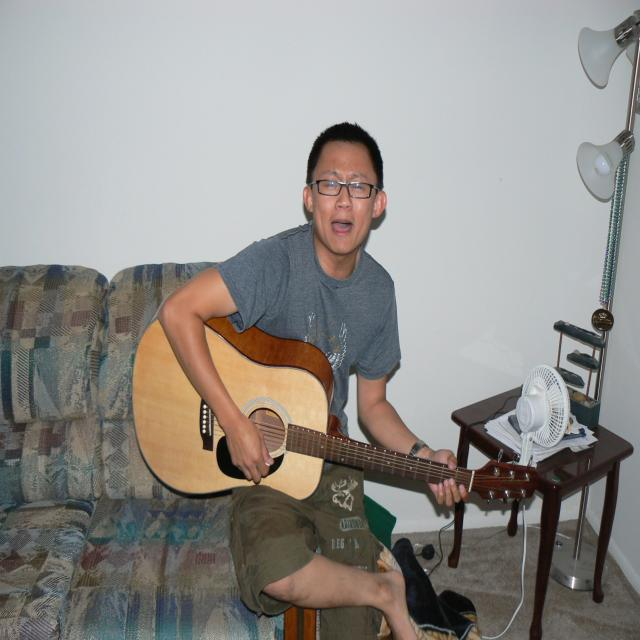guitar: (131, 298, 536, 506)
